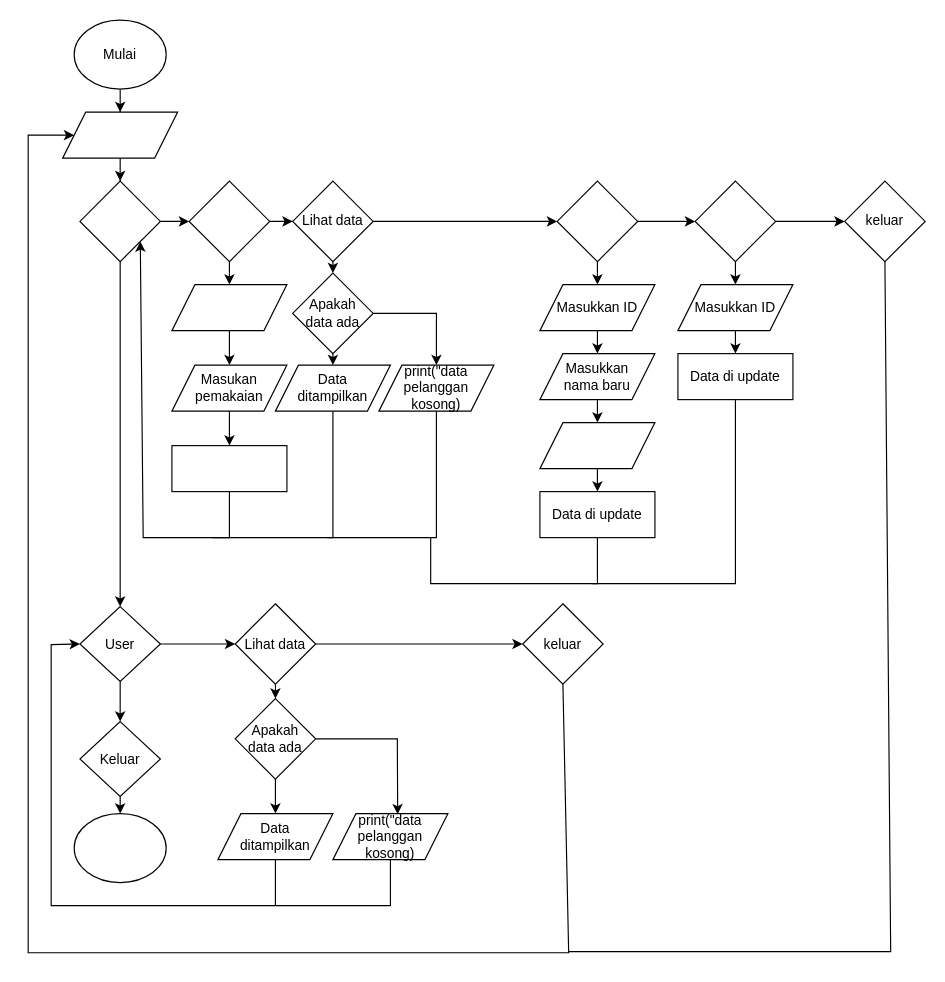
This 945x982 diagram has some shape labels left out. Here are the shapes that lost their labels. From the top down, the box of each, then its label:
(62, 111, 178, 158): Pilih menu
(79, 180, 160, 262): Admin
(188, 180, 270, 262): Tambah data pemakaian
(556, 180, 638, 262): Ubah data
(694, 180, 776, 262): Hapus data
(171, 283, 287, 331): Masukan nama
(539, 421, 655, 469): Masukan pemakaian baru
(171, 444, 287, 492): Data ditambahkan
(73, 812, 166, 883): Selesai
